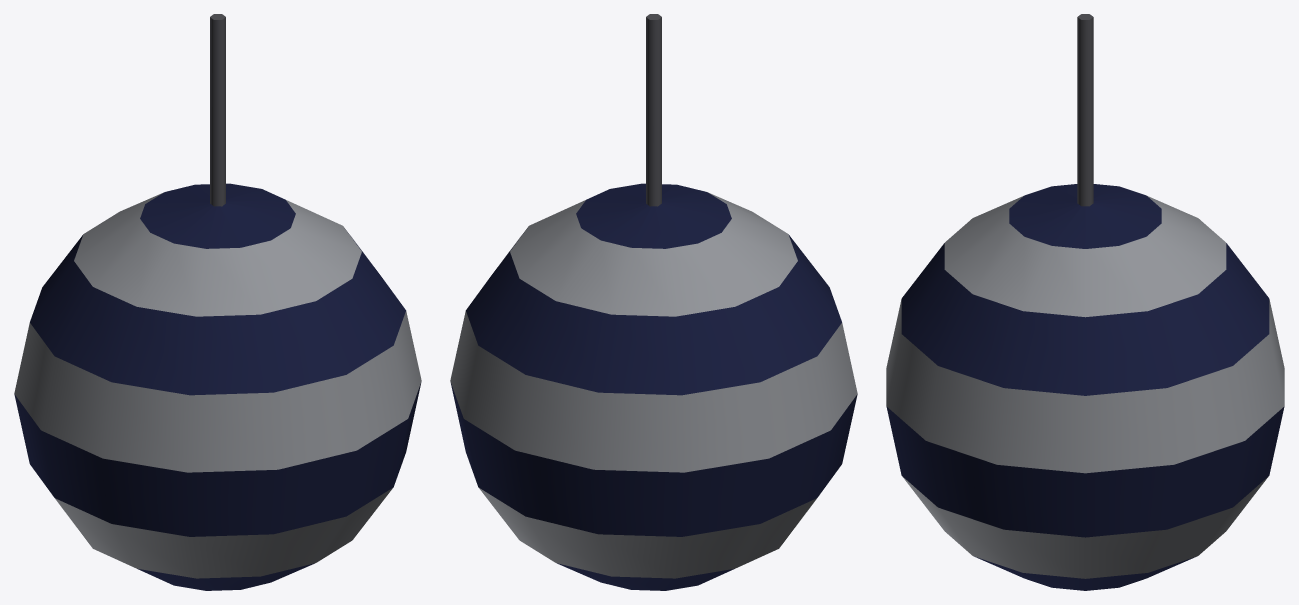
File: gen-sphere.obj
3 views of the same model, side by side, from view 1: azimuth 30°, elevation 25°; view 2: azimuth 150°, elevation 25°; view 3: azimuth 270°, elevation 25° (orthographic).
Parts seen in each view (by area): view 1: gen-sphere; view 2: gen-sphere; view 3: gen-sphere.
Part boxes in pixels (<box>): gen-sphere: <box>14,14,421,590</box>; gen-sphere: <box>450,14,857,590</box>; gen-sphere: <box>886,14,1284,590</box>.
Size of the model in its own units: 1 by 1.5 by 0.975.
